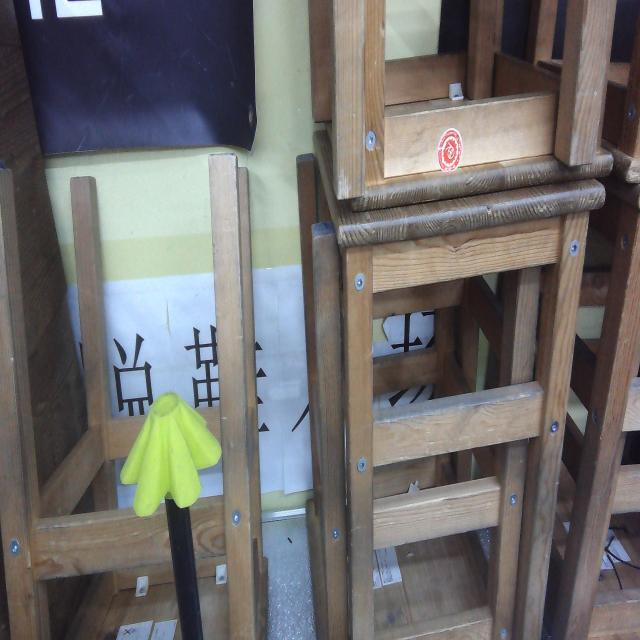Yellow-Stake-Head: (120, 391, 222, 517)
